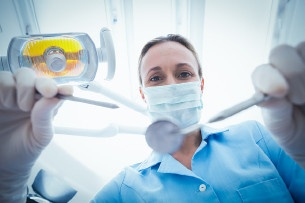Mask: (141, 63, 204, 126)
